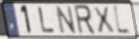1: (20, 4, 33, 36)
L: (112, 4, 134, 37), (37, 6, 57, 34)
N: (54, 5, 78, 36)
R: (72, 4, 97, 36)
X: (91, 6, 116, 34)
